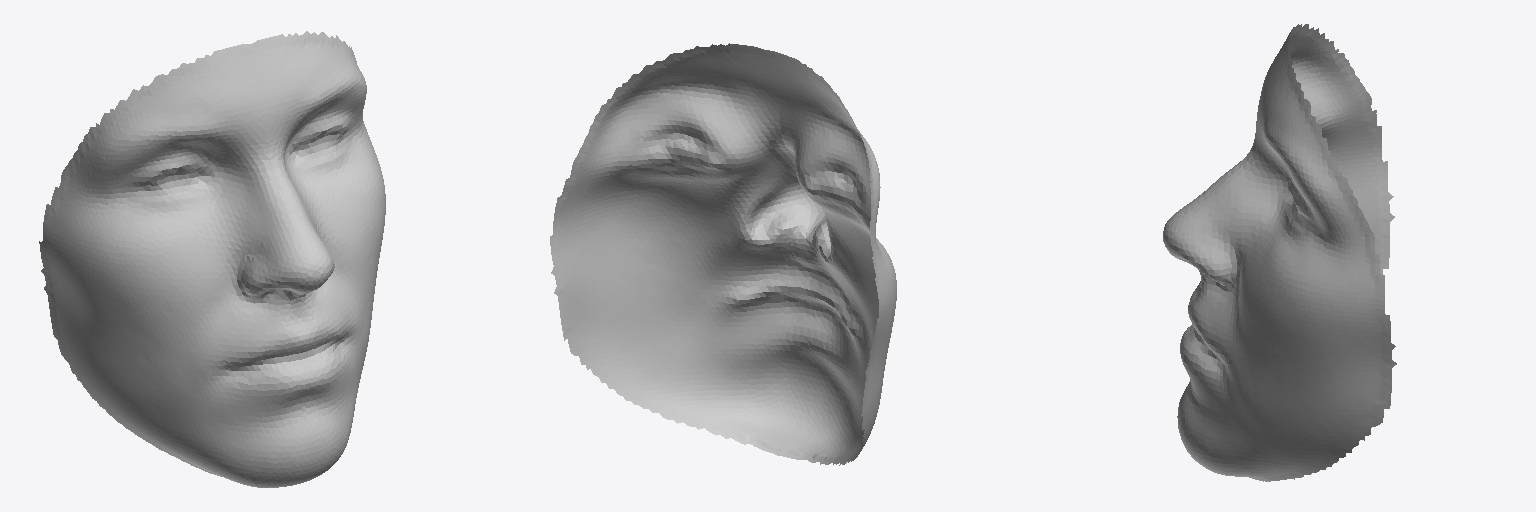
File: SIMPOP_18.obj
3 renders of one model, left to right at view 1: azimuth 30°, elevation 25°; view 2: azimuth 150°, elevation 25°; view 3: azimuth 270°, elevation 25°, orthographic.
Parts seen in each view (by area): view 1: SIMPOP_18; view 2: SIMPOP_18; view 3: SIMPOP_18.
Part boxes in pixels (x1,y1,x2,y2): SIMPOP_18: (39,31,385,487); SIMPOP_18: (550,43,896,465); SIMPOP_18: (1163,24,1396,481).
Size of the model in its own units: 138 by 171 by 86.12.